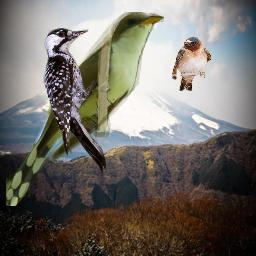Cuckoo: (6, 12, 164, 206)
Swallow: (172, 36, 211, 91)
Woodpecker: (43, 28, 106, 174)
